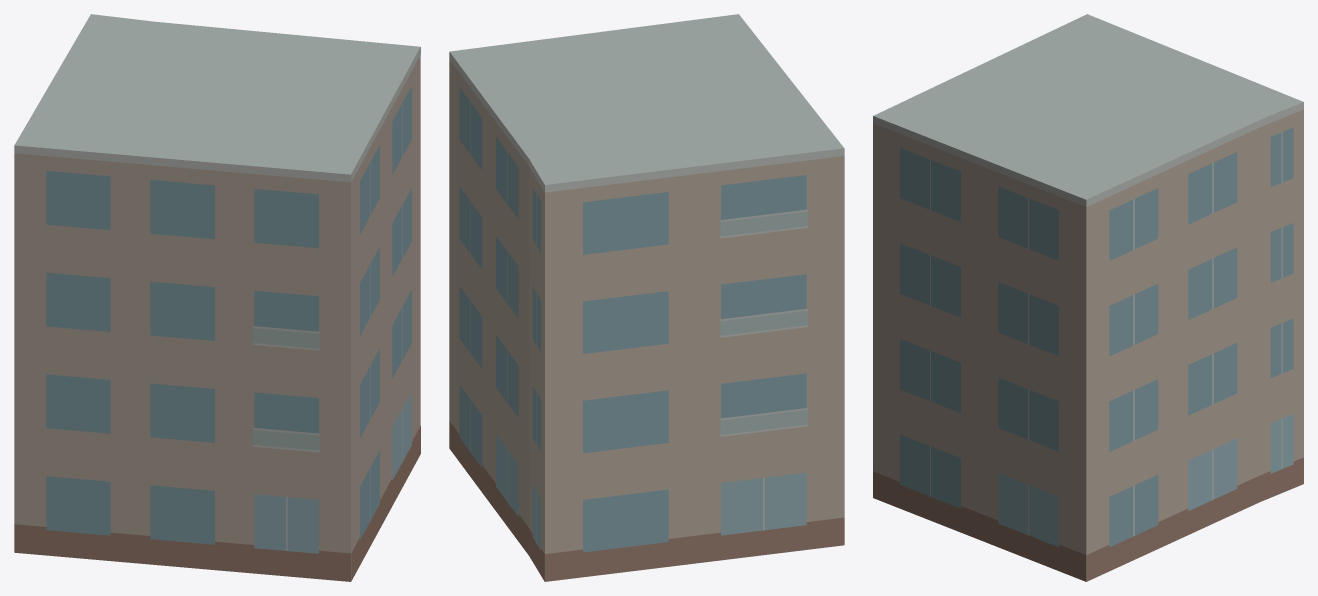
Rendered from survey-upis-33028652.glb.
3 views of the same model, side by side, from view 1: azimuth 30°, elevation 25°; view 2: azimuth 150°, elevation 25°; view 3: azimuth 270°, elevation 25° (orthographic). The views are drawn at different scales.
Parts seen in each view (by area): view 1: survey-upis-33028652.tmp; view 2: survey-upis-33028652.tmp; view 3: survey-upis-33028652.tmp.
Part boxes in pixels (x1,y1,x2,y2): survey-upis-33028652.tmp: (14, 14, 420, 581); survey-upis-33028652.tmp: (449, 14, 844, 581); survey-upis-33028652.tmp: (873, 14, 1303, 581).
Size of the model in its own units: 13.26 by 12.7 by 12.98.
